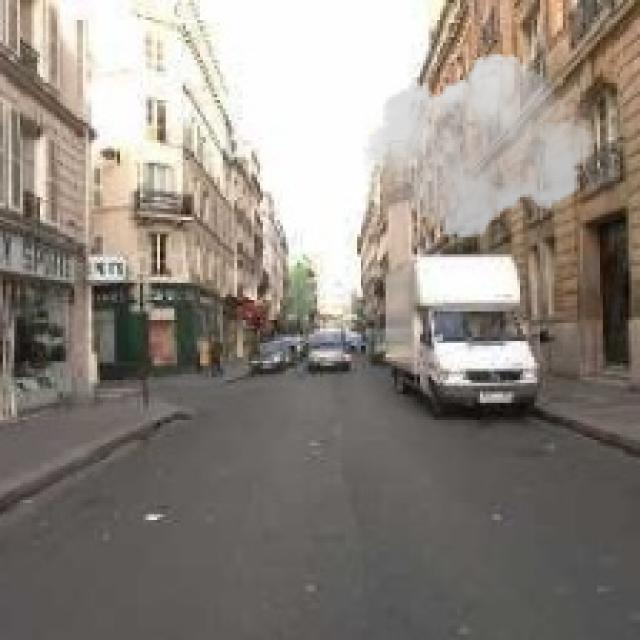Smoke: (363, 46, 600, 246)
